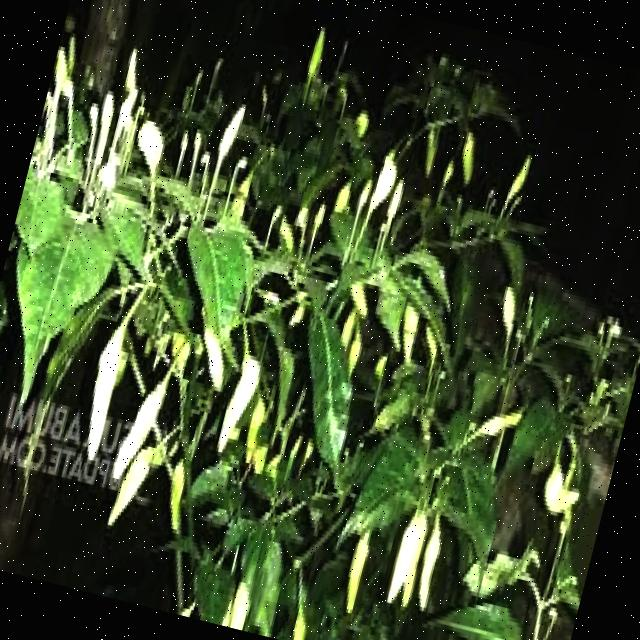healthy: (322, 356, 540, 612)
